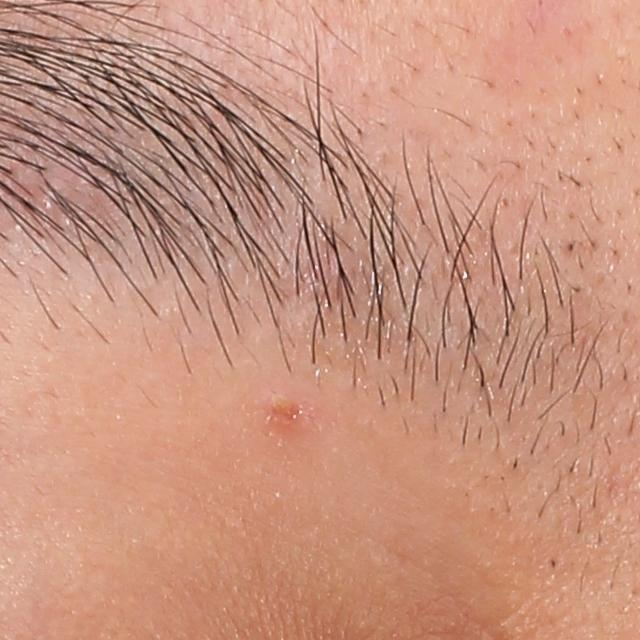papule: (269, 388, 312, 430)
